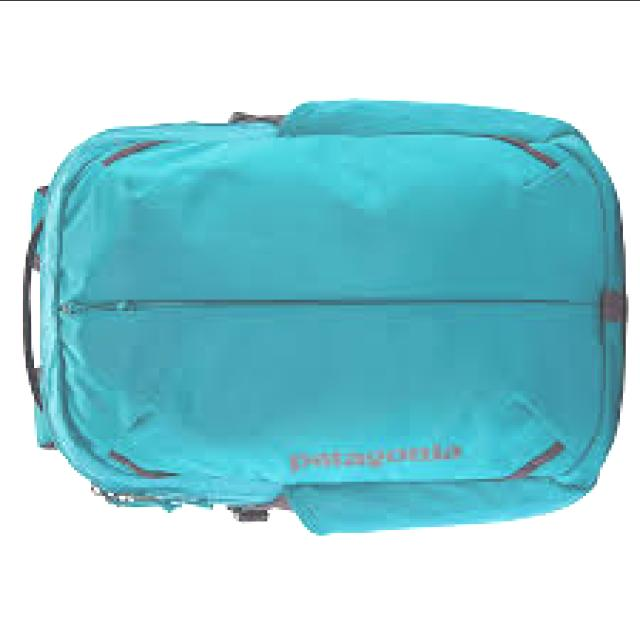backpack: (21, 98, 627, 539)
